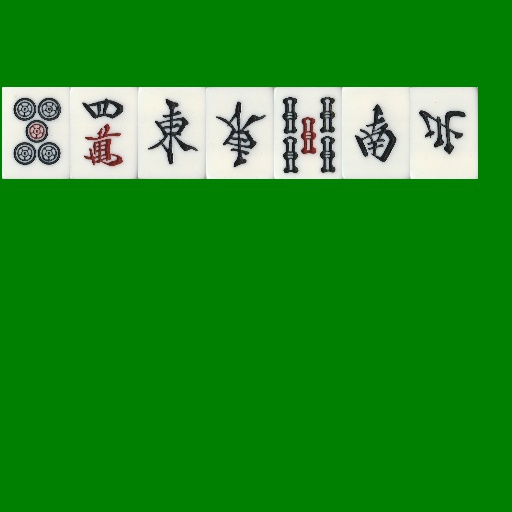4m: (70, 87, 138, 179)
5p: (2, 87, 70, 179)
5s: (274, 87, 342, 179)
east: (138, 87, 206, 179), (206, 87, 274, 179)
north: (410, 87, 478, 179)
south: (342, 87, 410, 179)
